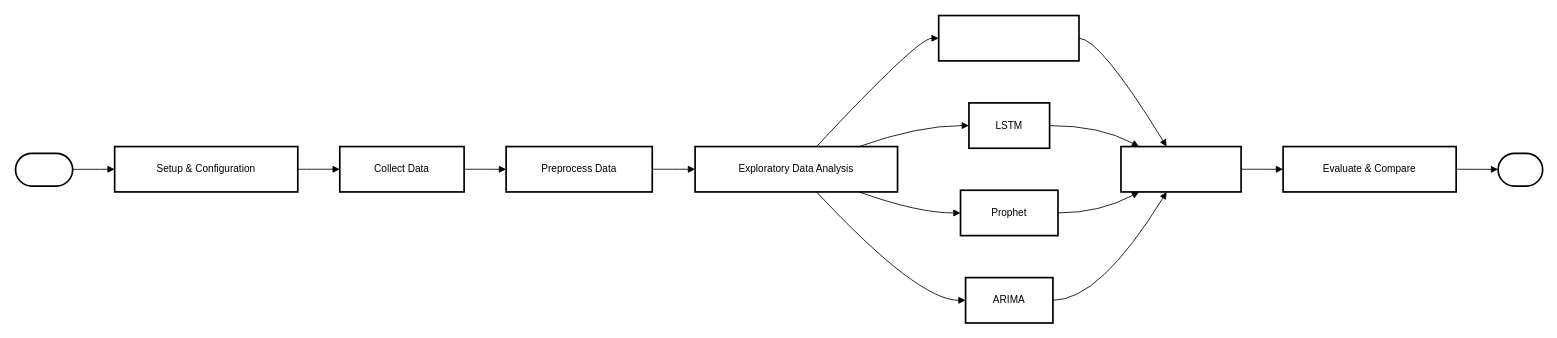
This 1557x338 diagram has some shape labels left out. The shapes that lost their labels are listed below. From the top down, each one's centre as x and y in pixels, then its label:
At pixel 1008 37: "Random Forest".
At pixel 43 169: "START".
At pixel 1181 168: "Train Model".
At pixel 1520 169: "END".
